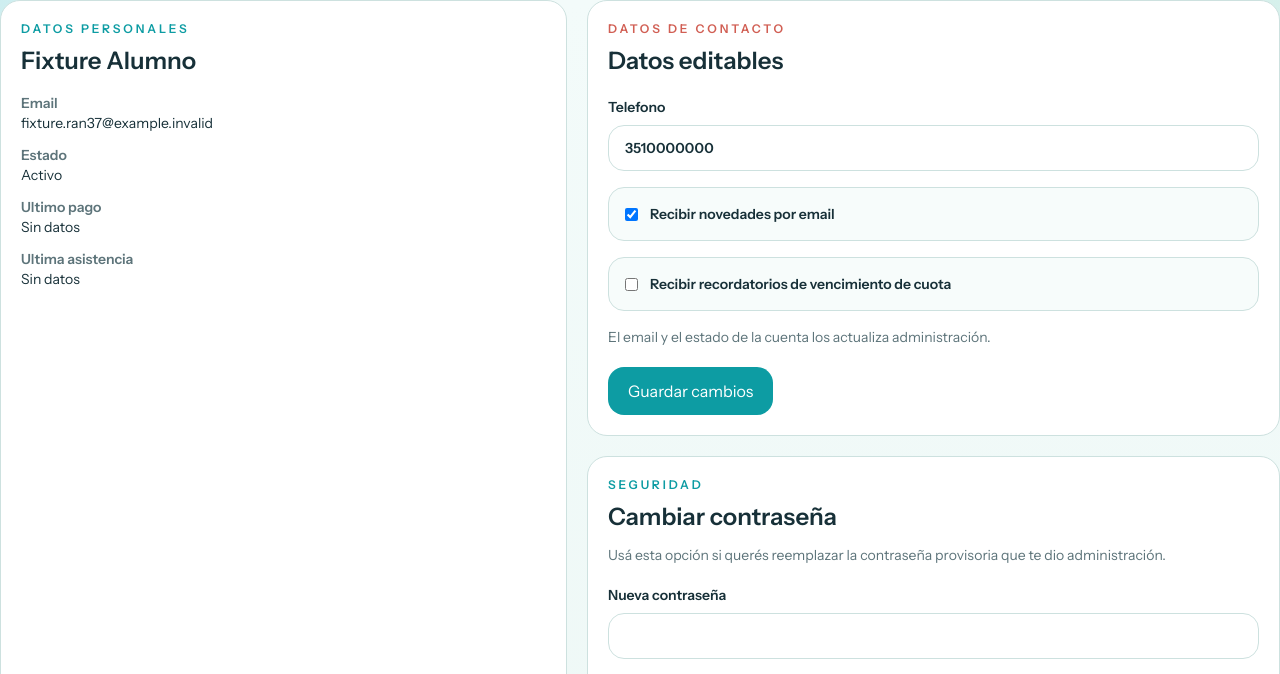
Test: RAN-37 student payment reminder preferences › 12. submit envia phone y ambas preferencias y aplica el retorno
The width and height of the screenshot is (1280, 674).
Replace the text in the field labelled "Telefono" with "3519999999" at (934, 148), box x1=608 y1=125 x2=1259 y2=171
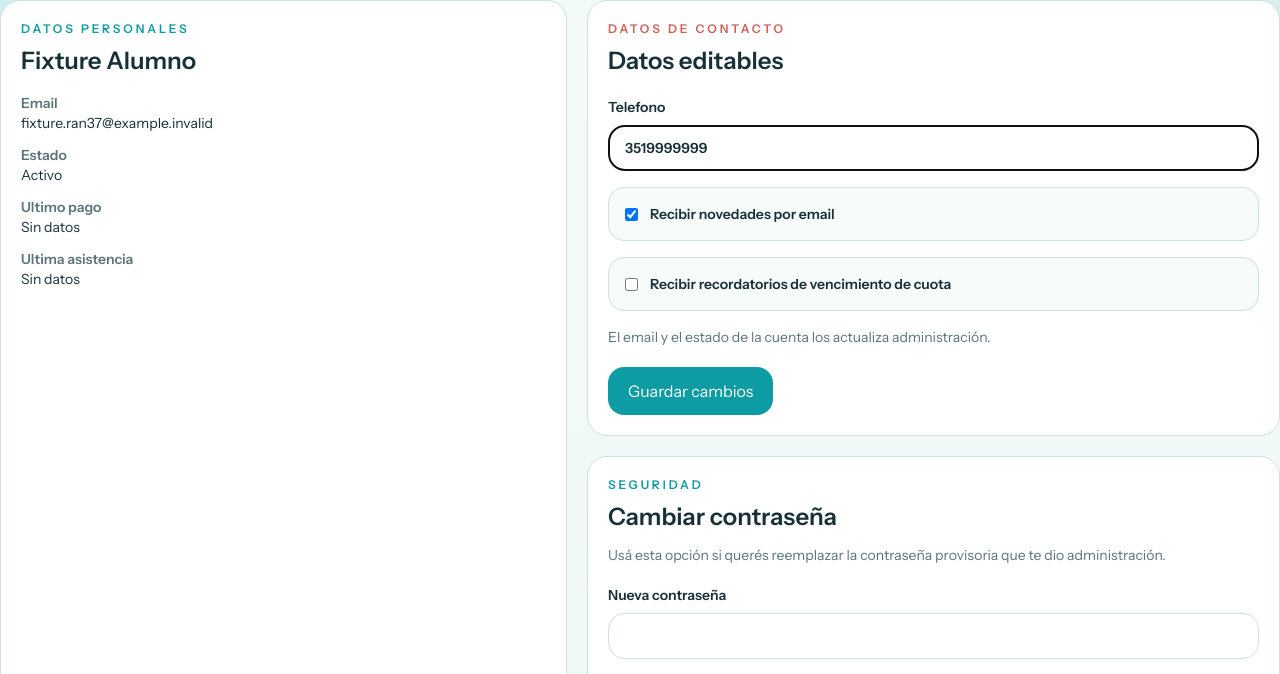
Click the button "Guardar cambios".
click(691, 391)  # box x1=608 y1=367 x2=774 y2=415
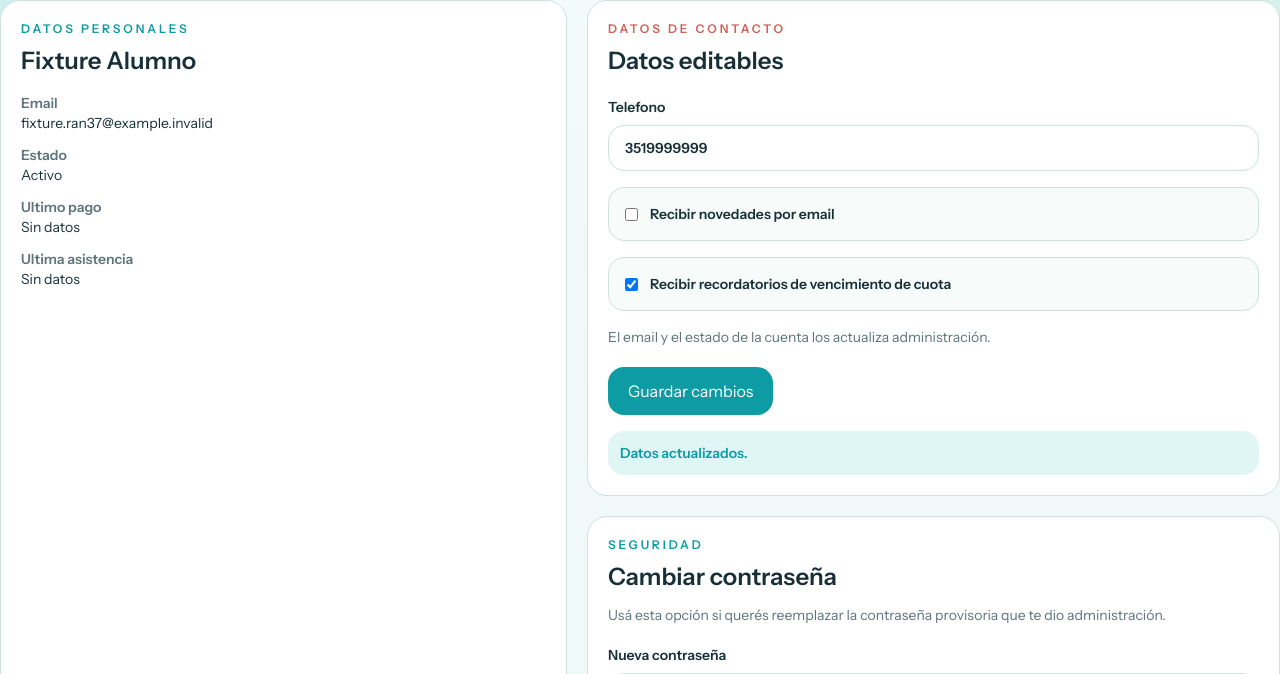
Expected: the checkbox labelled "Recibir novedades por email" is not checked, x1=625 y1=208 x2=638 y2=220
Expected: the checkbox labelled "Recibir recordatorios de vencimiento de cuota" is checked, x1=625 y1=278 x2=638 y2=290
